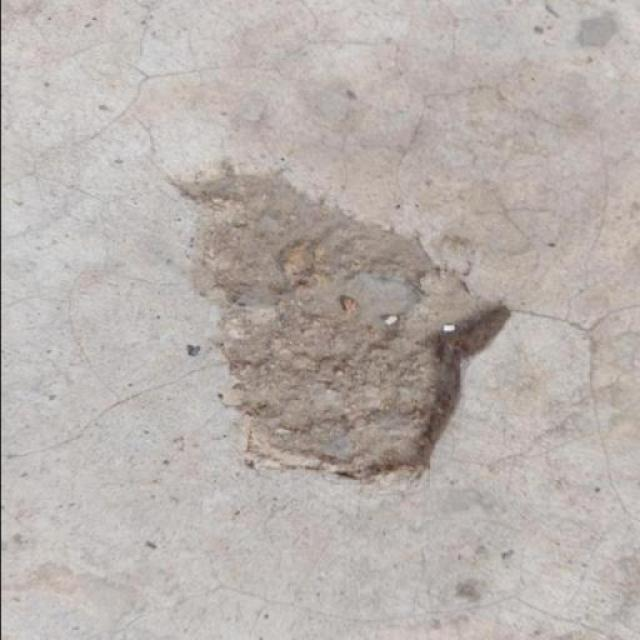D10: (176, 171, 512, 490)
